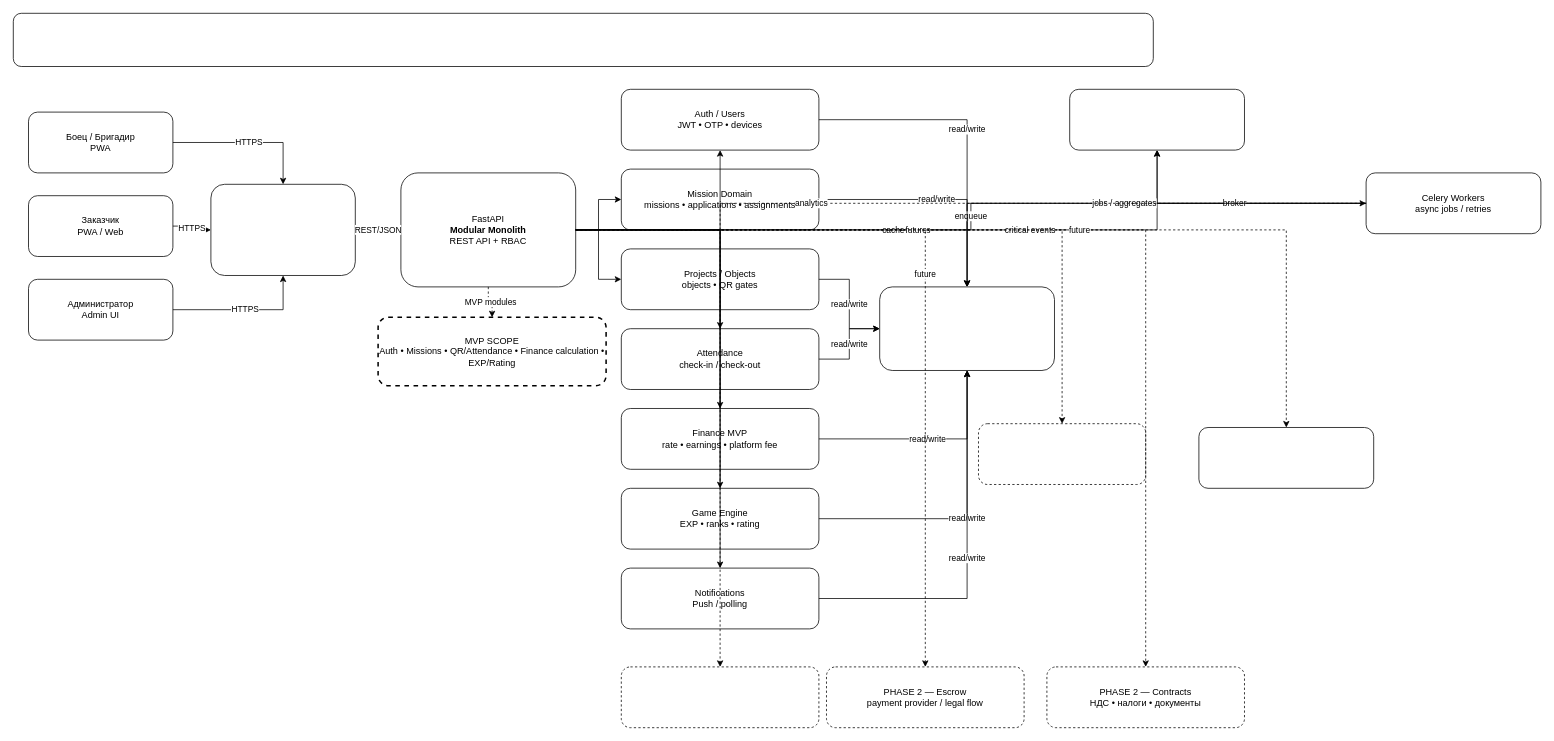
This 1554x741 diagram has some shape labels left out. The shapes that lost their labels are listed below. From the top down, each one's centre as x and y in pixels, then its label:
At pixel 583 39: "СанычЪ Модульный монолит → расширение без переписывания ядра".
At pixel 1156 119: "Redis cache • Celery broker • locks".
At pixel 282 230: "Nginx TLS / Let's Encrypt rate limiting".
At pixel 966 328: "PostgreSQL 15+ Source of truth users • missions • assignments • attendance".
At pixel 1062 453: "Object Storage QR PNG • документы".
At pixel 1286 457: "Audit Log / Events критичные действия и финансы".
At pixel 720 697: "PHASE 2 — Оракул analytics • Tarot UI • AI".
